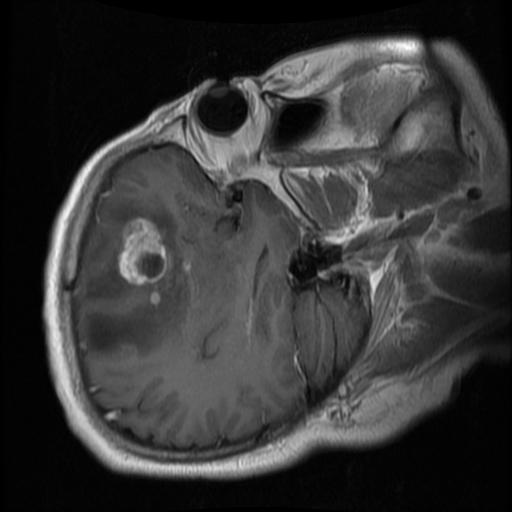glioma: (80, 204, 186, 355)
